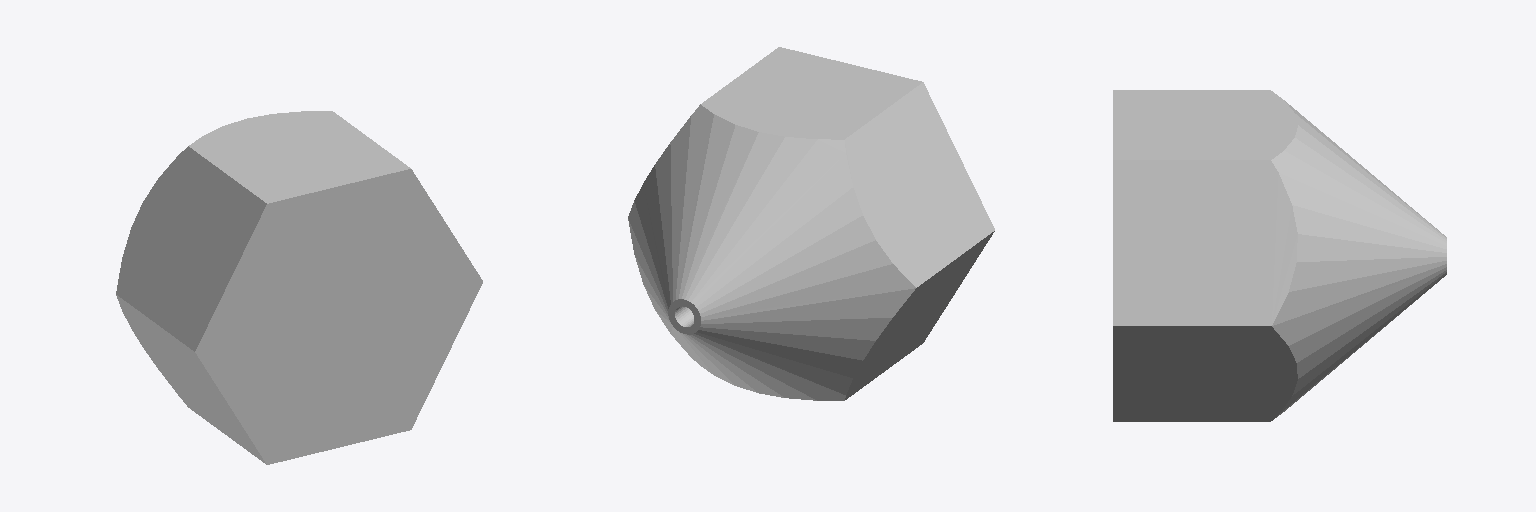
3 views of the same model, side by side, from view 1: azimuth 30°, elevation 25°; view 2: azimuth 150°, elevation 25°; view 3: azimuth 270°, elevation 25° (orthographic).
Visible parts, largest first — view 1: Druckkopf.001_Cylinder.012; view 2: Druckkopf.001_Cylinder.012; view 3: Druckkopf.001_Cylinder.012.
Boxes of the visible parts, <box> form: Druckkopf.001_Cylinder.012: <box>116,111,482,464</box>; Druckkopf.001_Cylinder.012: <box>628,47,994,400</box>; Druckkopf.001_Cylinder.012: <box>1113,90,1446,421</box>.
Bounding box in the file's own units: 0.0095 × 0.0083 × 0.0095.